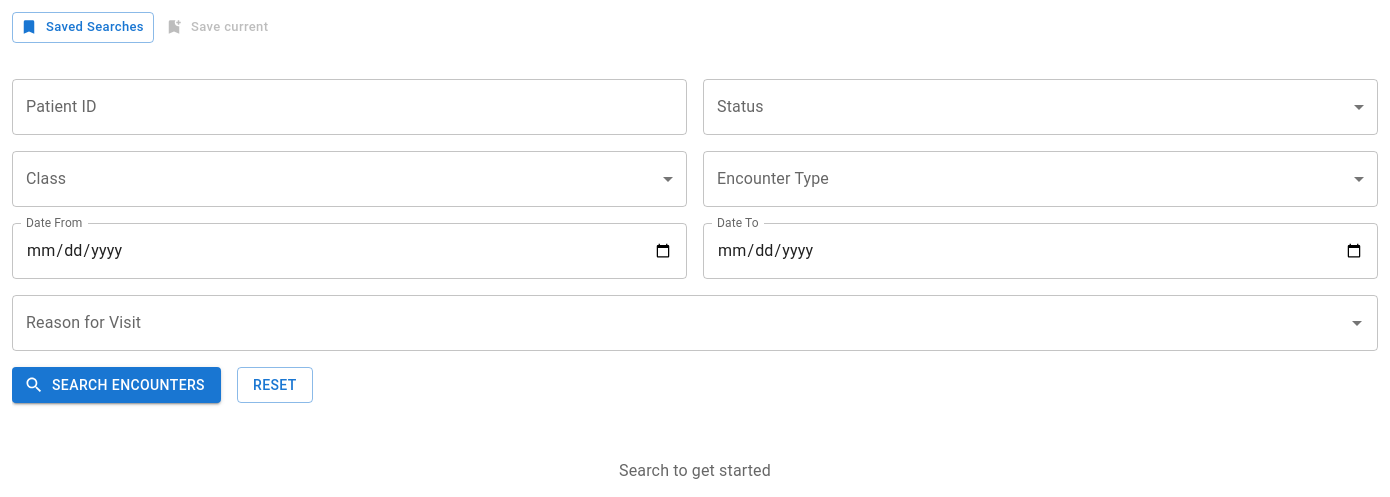
Test: EncounterSearch › shows 'No encounters found' when search returns zero results
Step 1. Click the button "Search Encounters" → click(116, 385), box left=12, top=367, right=221, bottom=403
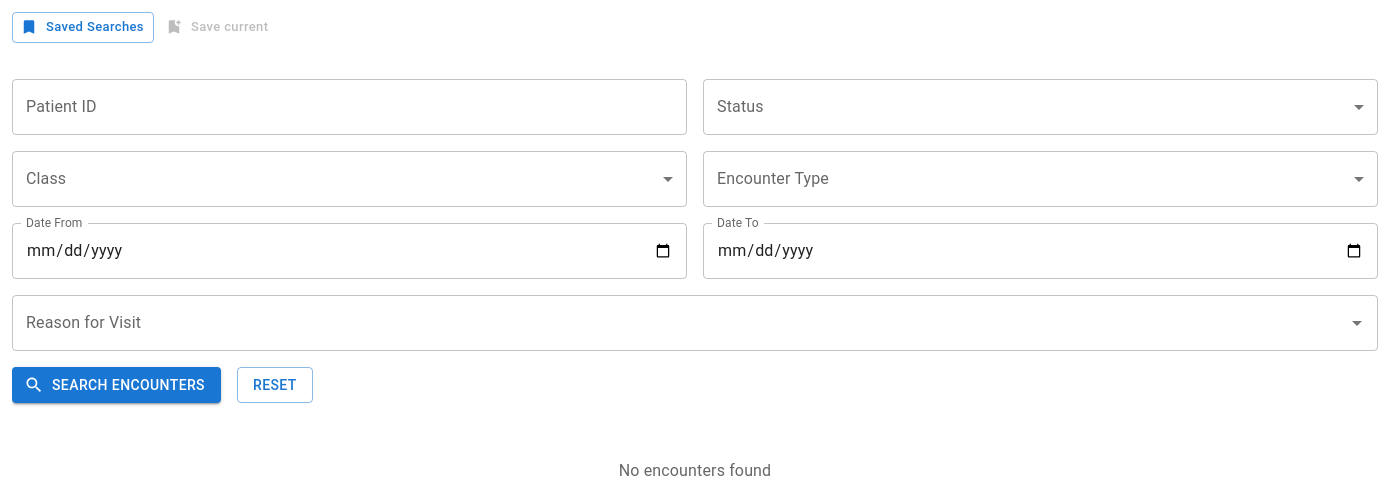
Expected: the text "No encounters found" is shown, left=619, top=461, right=771, bottom=480
